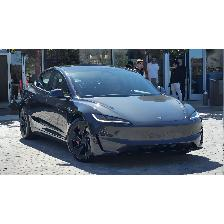EV: (20, 65, 205, 163)
